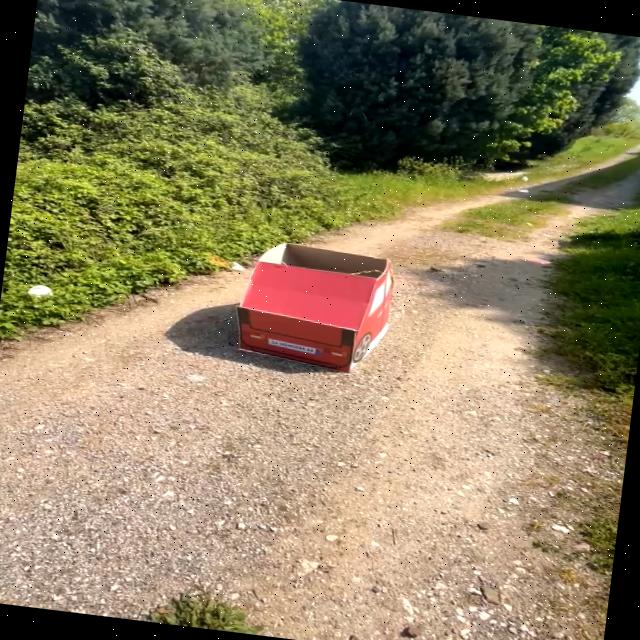red_car: (173, 217, 426, 396)
